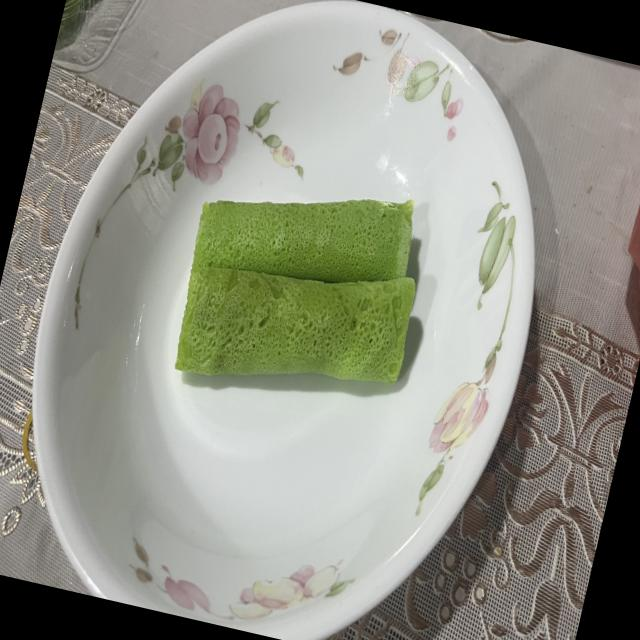Kuih-Ketayap: (175, 266, 415, 383), (192, 199, 414, 283)
